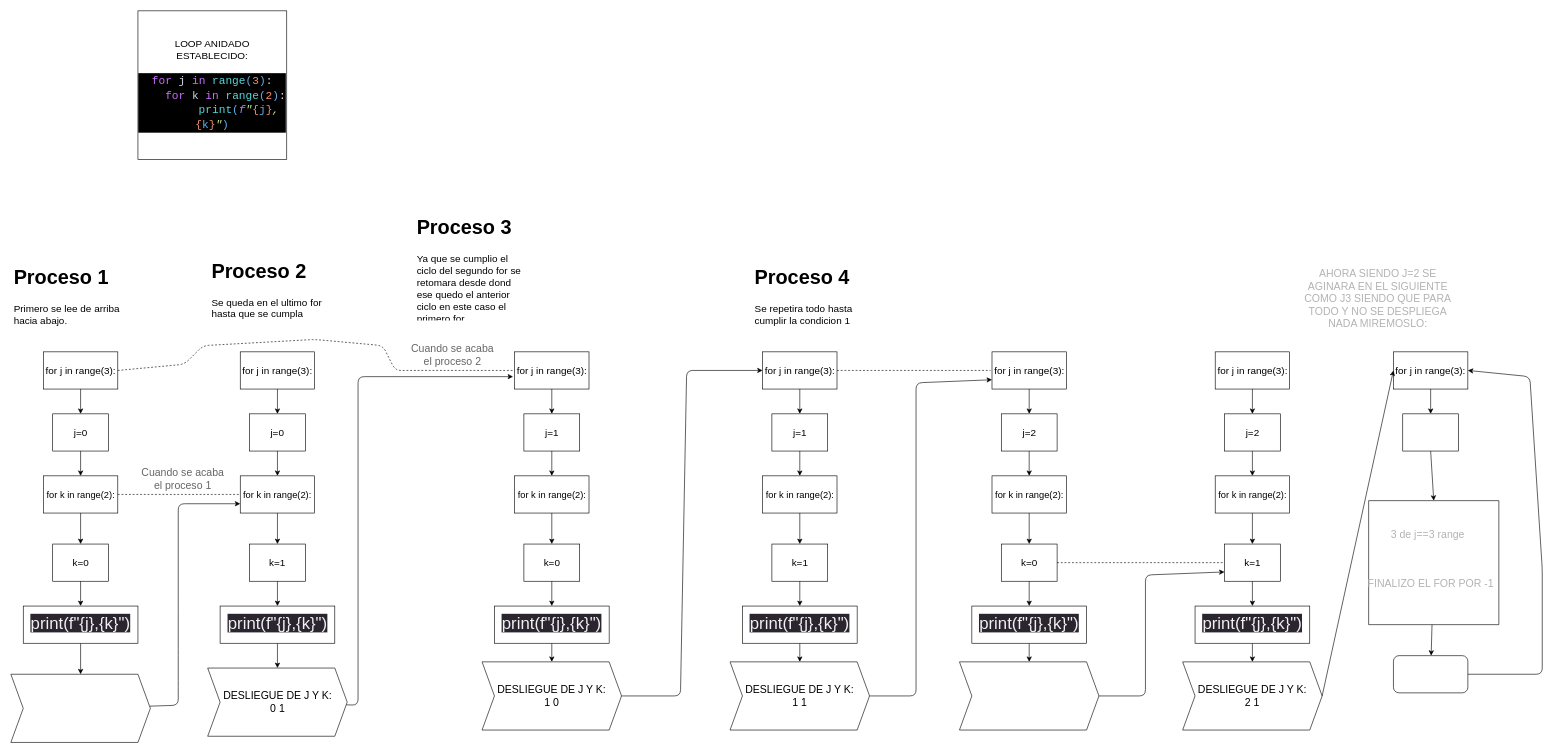
Some shapes in this 1558 by 753 pixel diagram are drawn without their labels. The centre of each missing label's shape, as x and y in pixels:
"DESLIEGUE DE J Y K: 0 0" belongs at (80,708).
"DESLIEGUE DE J Y K: 2 0" belongs at (1029,695).
"FIN" belongs at (1430,674).
"j=3" belongs at (1430,432).
